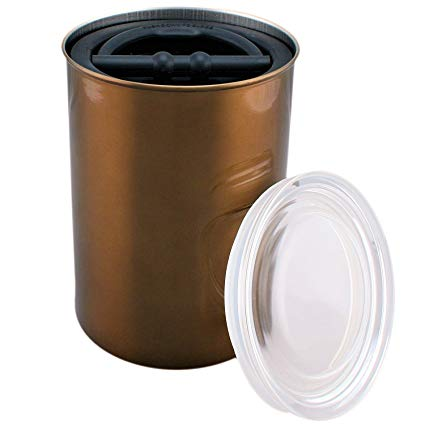metal: (60, 5, 300, 372)
plastic: (223, 168, 395, 421)
